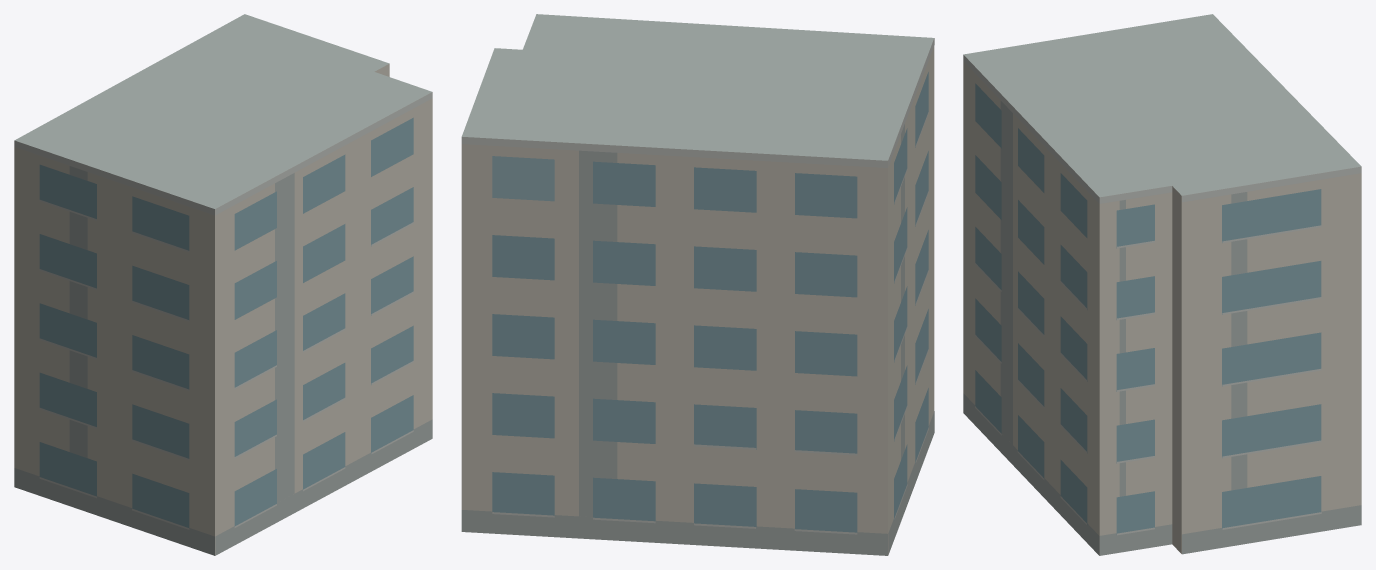
Rendered from survey-upis-32834971.glb.
3 renders of one model, left to right at view 1: azimuth 30°, elevation 25°; view 2: azimuth 150°, elevation 25°; view 3: azimuth 270°, elevation 25°, orthographic. The views are drawn at different scales.
Parts seen in each view (by area): view 1: survey-upis-32834971.tmp; view 2: survey-upis-32834971.tmp; view 3: survey-upis-32834971.tmp.
Boxes of the visible parts, <box> form: survey-upis-32834971.tmp: <box>14,14,432,555</box>; survey-upis-32834971.tmp: <box>461,14,934,555</box>; survey-upis-32834971.tmp: <box>963,14,1361,555</box>.
Size of the model in its own units: 14.49 by 13.2 by 13.3.
